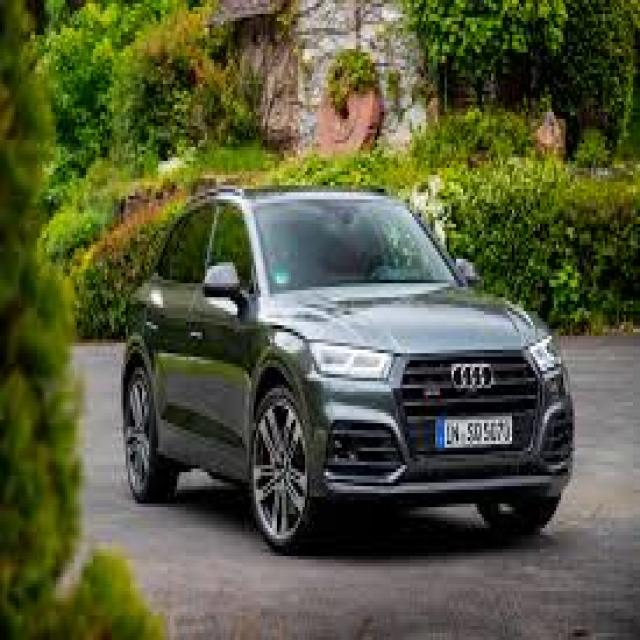SUV: (116, 178, 575, 552)
